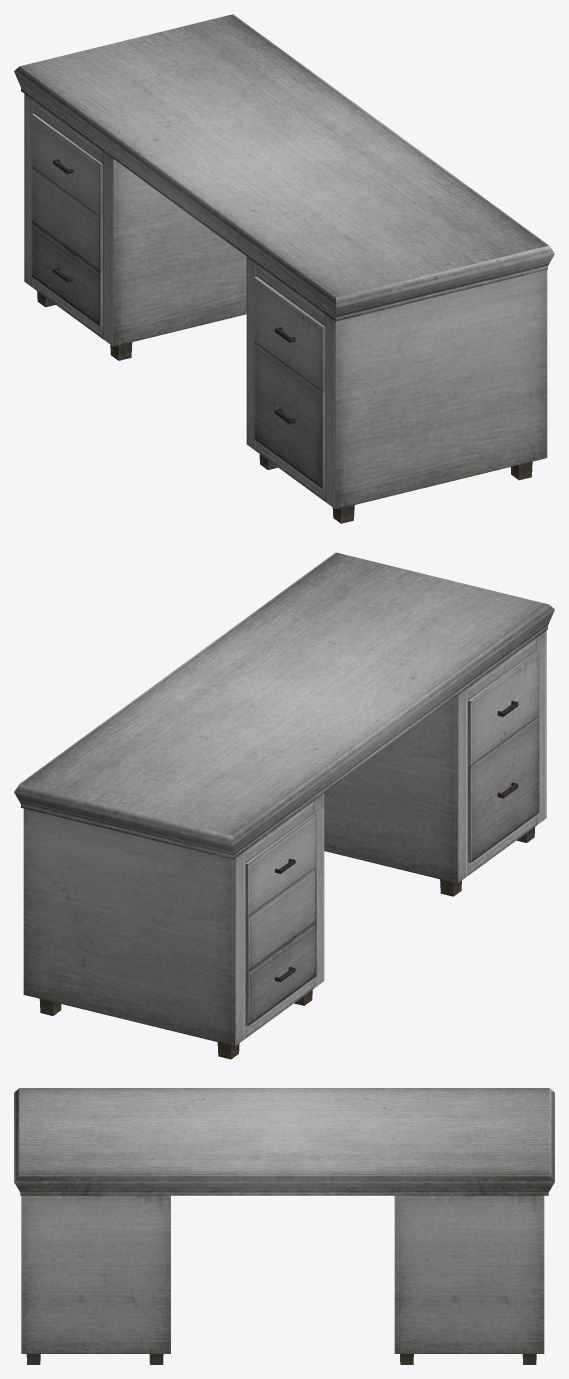
The model's file is OfficeTable.fbx.
The picture shows the model from 3 angles, top to bottom: view 1: azimuth 30°, elevation 25°; view 2: azimuth 150°, elevation 25°; view 3: azimuth 270°, elevation 25°; orthographic projection. The views are drawn at different scales.
Parts seen in each view (by area): view 1: OfficeTable; view 2: OfficeTable; view 3: OfficeTable.
Boxes of the visible parts, x1,y1,x2,y2 form: OfficeTable: (14,14,554,523); OfficeTable: (14,552,554,1059); OfficeTable: (14,1088,554,1364).
Size of the model in its own units: 1.38 by 1.37 by 3.45.
